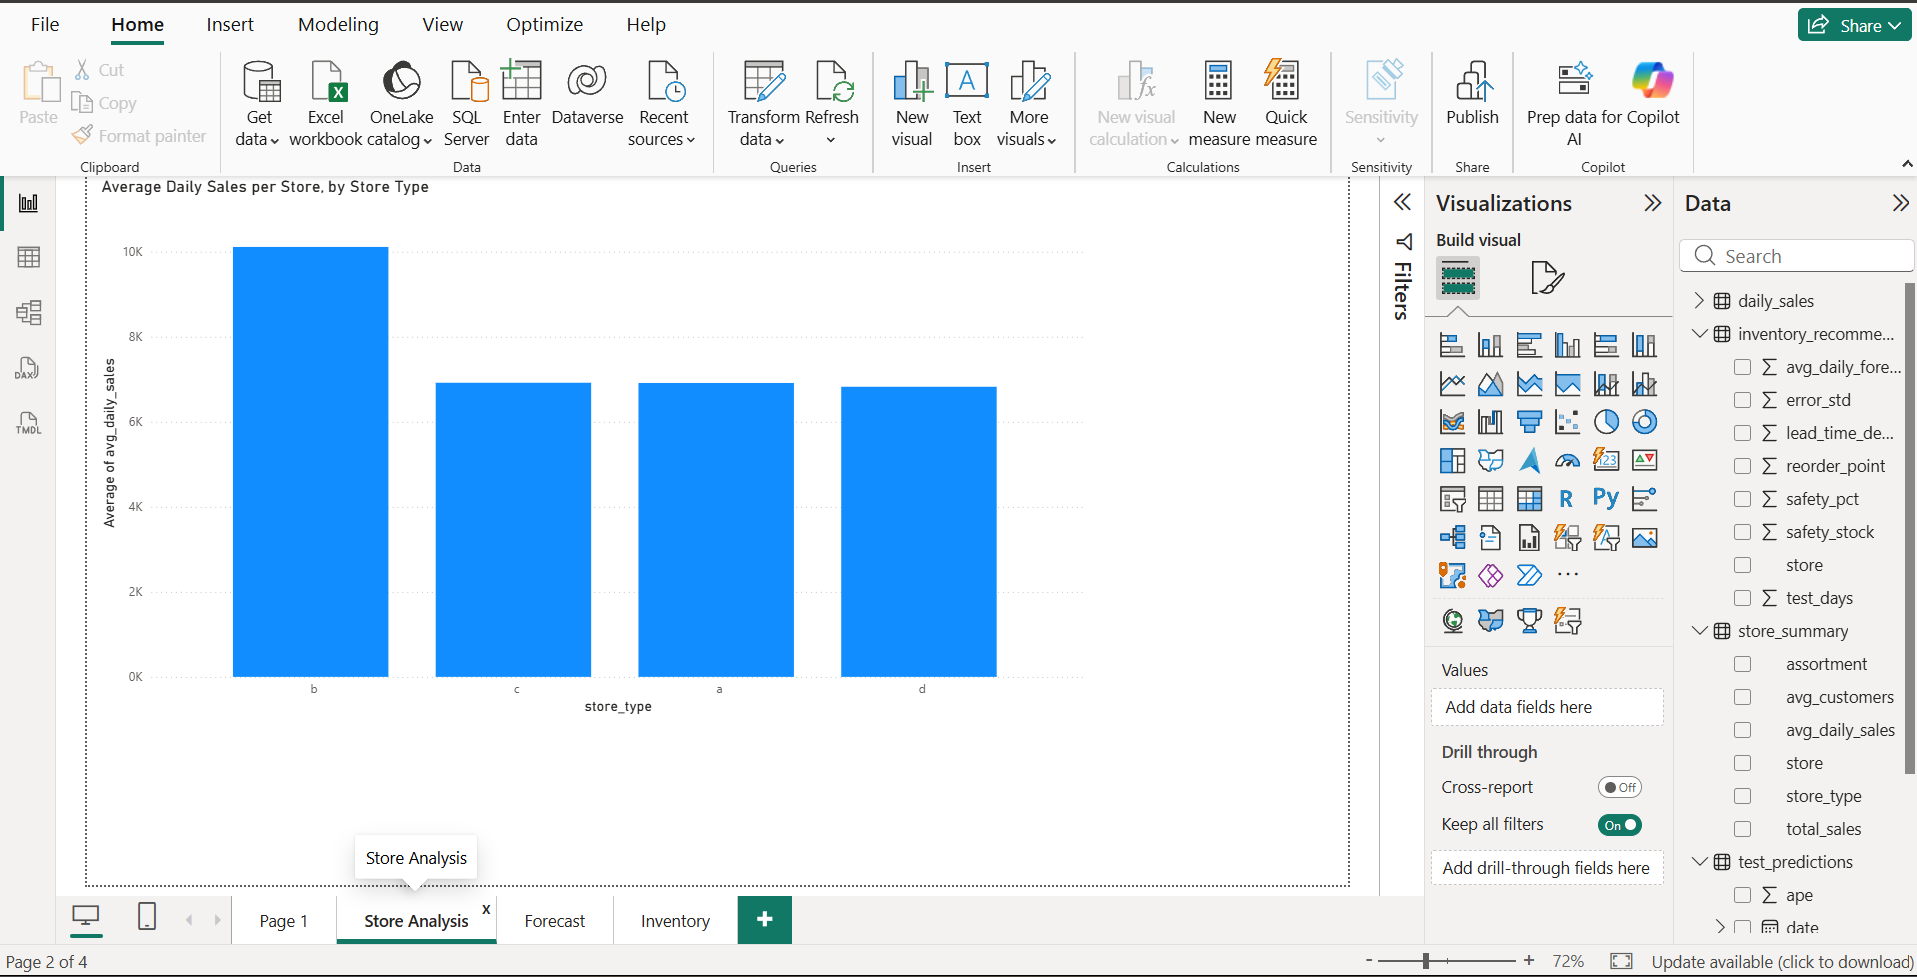

The dashboard page shown, as its layout file describes it:
{"tool":"powerbi","page":{"name":"Store Analysis","canvas":[1280,720],"ordinal":1},"visuals":[{"type":"clusteredColumnChart","title":"Average Daily Sales  per Store, by Store Type","fields":{"Category":["store_summary.store_type"],"Y":["Avg(store_summary.avg_daily_sales)"]},"box":[9.8,0,1008.4,551.7],"z":0}]}

Visuals, with their boxes on the page's 1280x720 design canvas (x1, y1, x2, y2). These are canvas units, not pixel positions in the 1917x977 screenshot, which may show the page scaled, cropped or inside an application window:
"Average Daily Sales  per Store, by Store Type" clusteredColumnChart: [left=10, top=0, right=1018, bottom=552]
